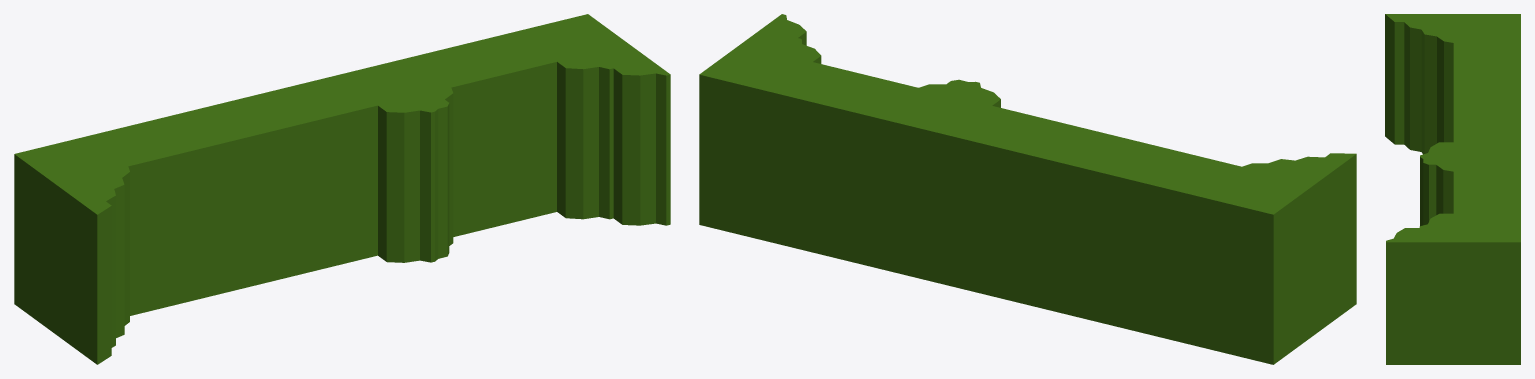
File: B8 N Mountain.obj
The picture shows the model from 3 angles, left to right: view 1: azimuth 30°, elevation 25°; view 2: azimuth 150°, elevation 25°; view 3: azimuth 270°, elevation 25°; orthographic projection. The views are drawn at different scales.
Visible parts, largest first — view 1: Mesh3 B8_N_Mountain1 Model, Mesh1 B8_Fake_Wall1 B8_N_Mountain1 Model; view 2: Mesh3 B8_N_Mountain1 Model; view 3: Mesh3 B8_N_Mountain1 Model.
Part boxes in pixels (x1,y1,x2,y2): Mesh3 B8_N_Mountain1 Model: [14, 14, 670, 364]; Mesh1 B8_Fake_Wall1 B8_N_Mountain1 Model: [280, 195, 316, 278]; Mesh3 B8_N_Mountain1 Model: [699, 14, 1356, 364]; Mesh3 B8_N_Mountain1 Model: [1385, 14, 1520, 364].
Bounding box in the file's own units: 16 × 4 × 4.02.
